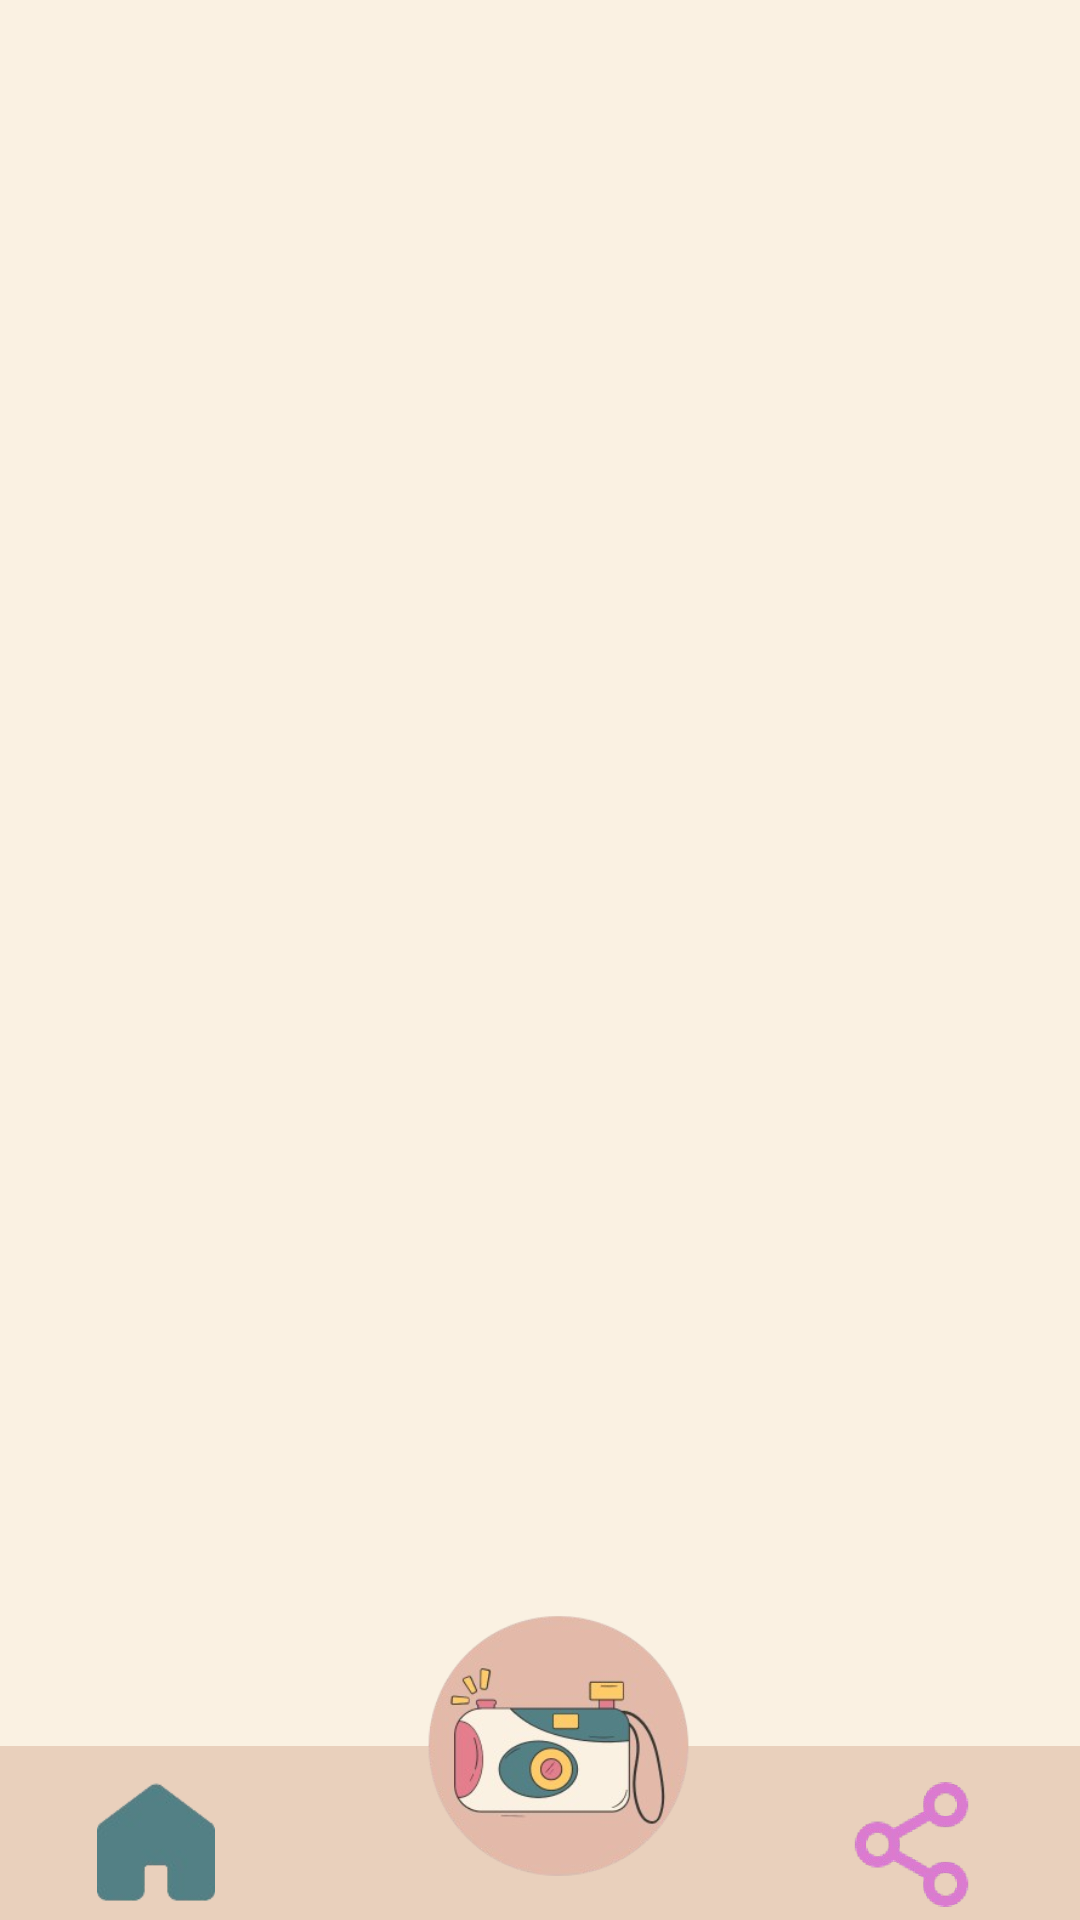

Icon click points for this 1080x1920 phone screenshot, format (x,y):
cam: (540,1746)
home: (156,1842)
share: (911,1844)
